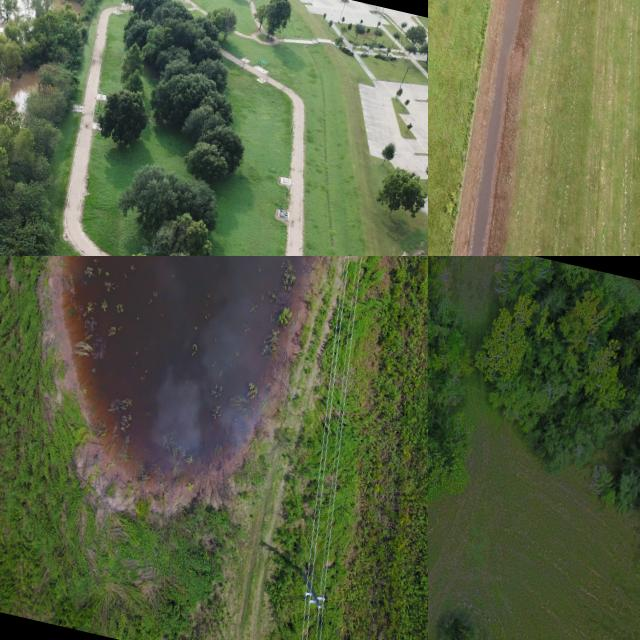fire: (63, 256, 309, 477), (468, 0, 522, 256), (8, 69, 38, 111)
